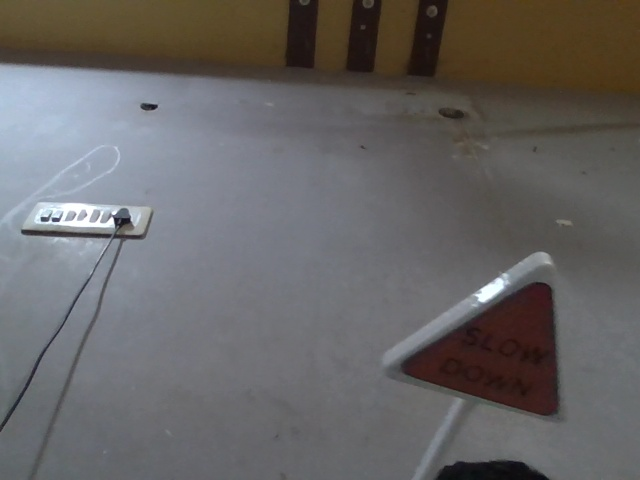slowdown: (386, 242, 569, 436)
